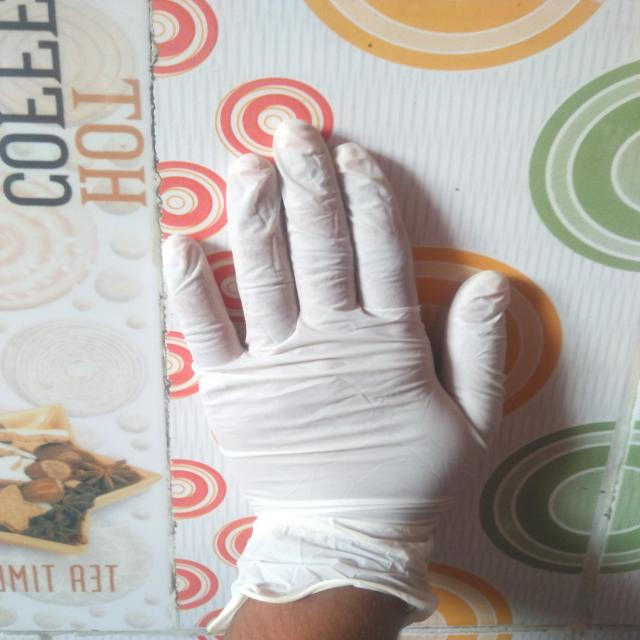glove: (151, 120, 525, 630)
